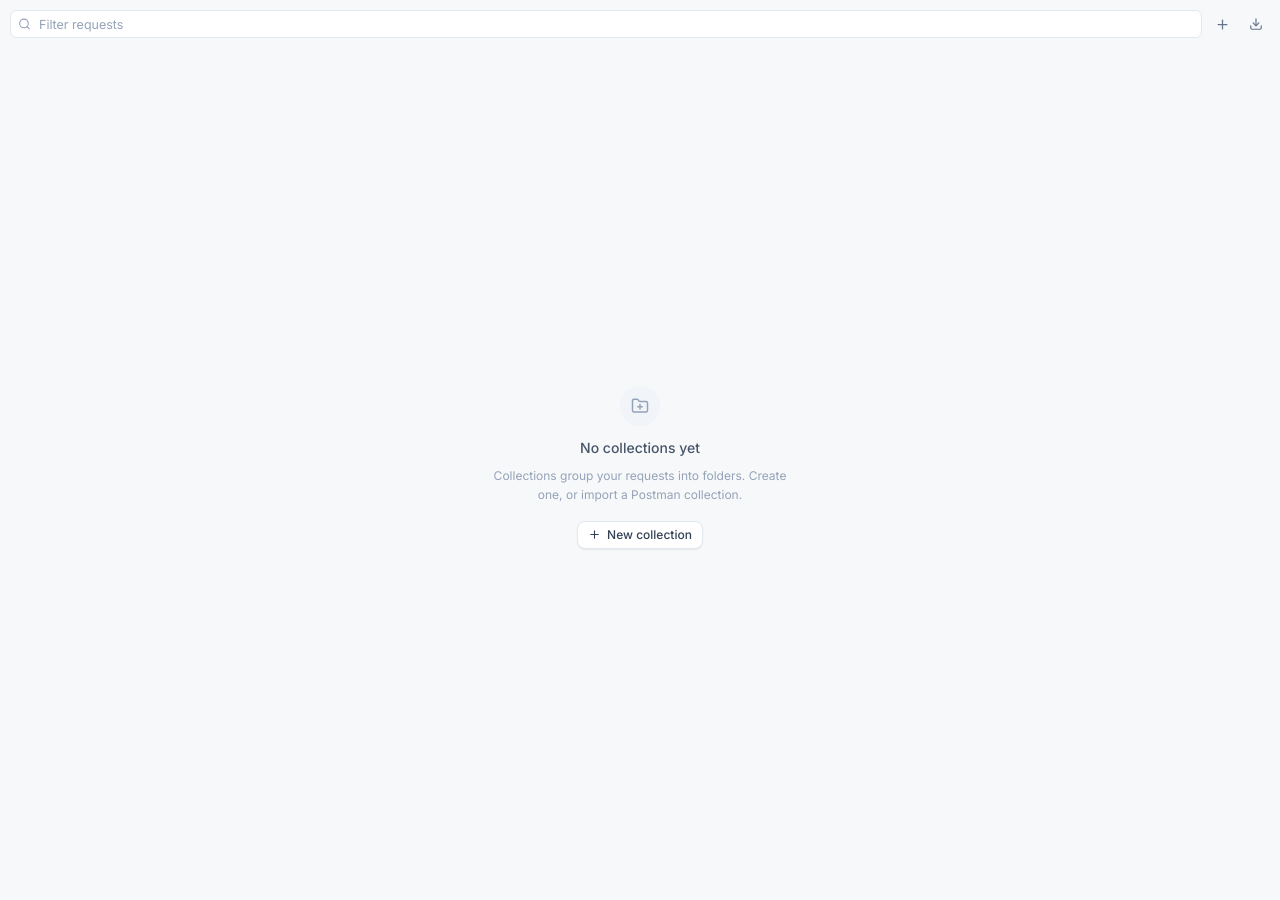
CollectionsPanel › opens the import collection modal
Expected: the text "No collections yet" is shown, x1=580 y1=438 x2=700 y2=458
What coordinates should you click on to do the following:
click the button titled "import a collection"
I would click on:
 (1256, 24)
Its box is x1=1242 y1=10 x2=1270 y2=38.
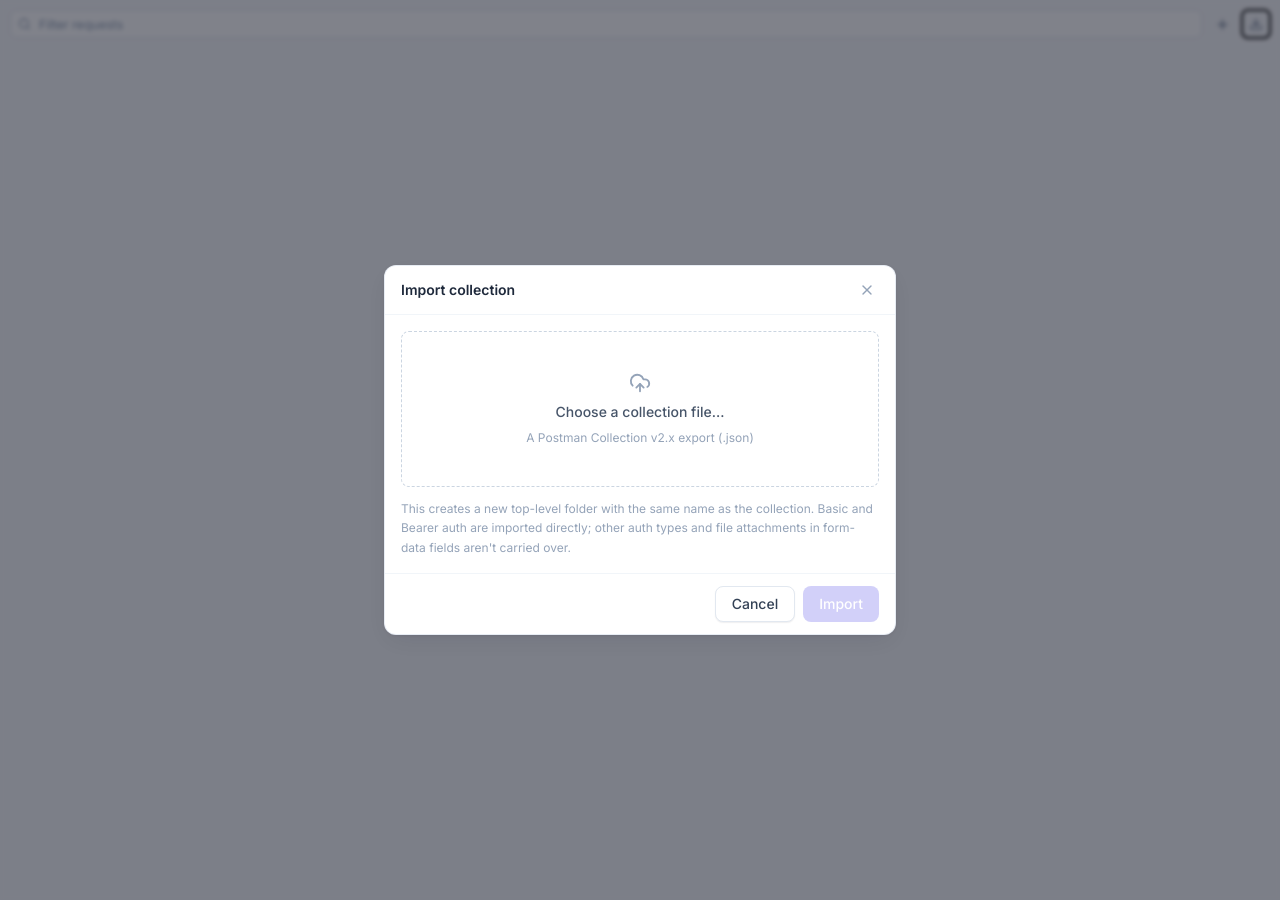
Now the heading "Import collection" is shown, box x1=401 y1=280 x2=515 y2=300
